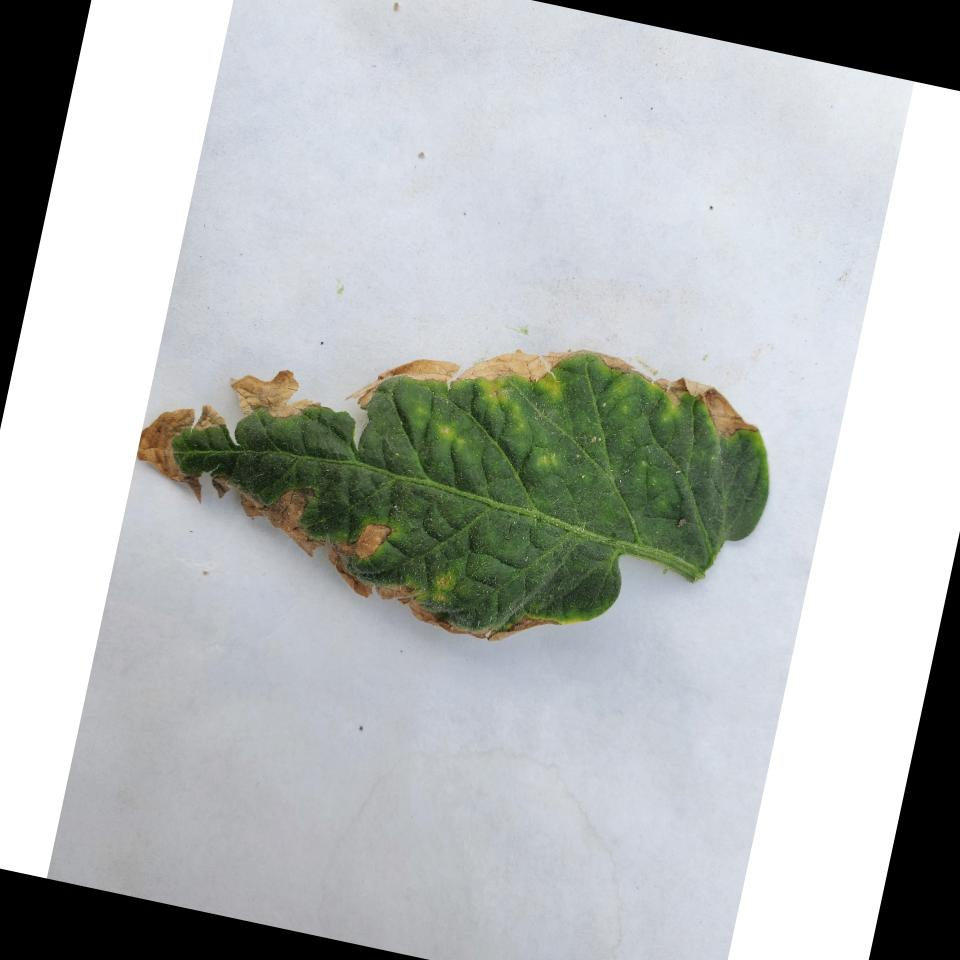tomato_bacterial_blight: (112, 269, 789, 698)
